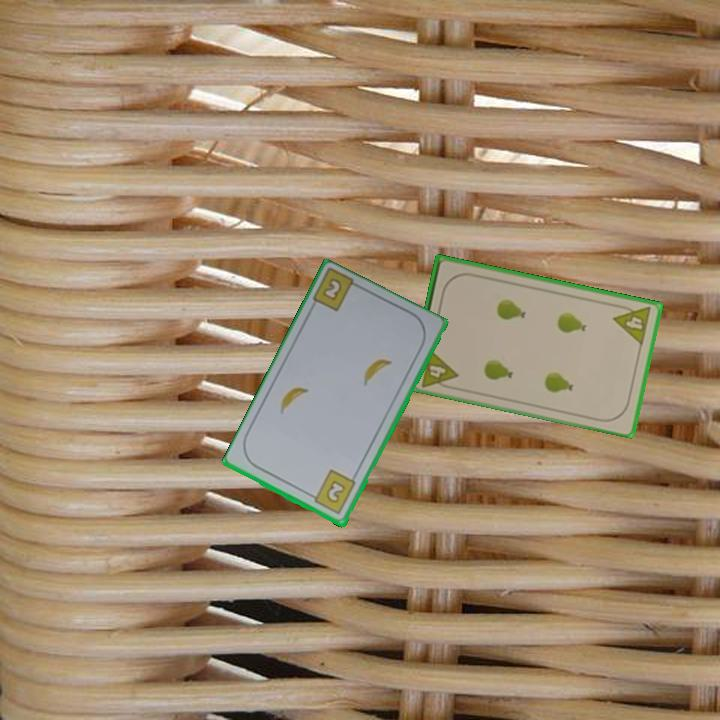2b: (306, 467, 359, 518), (321, 277, 343, 301)
4p: (610, 300, 654, 348), (418, 344, 461, 392)
